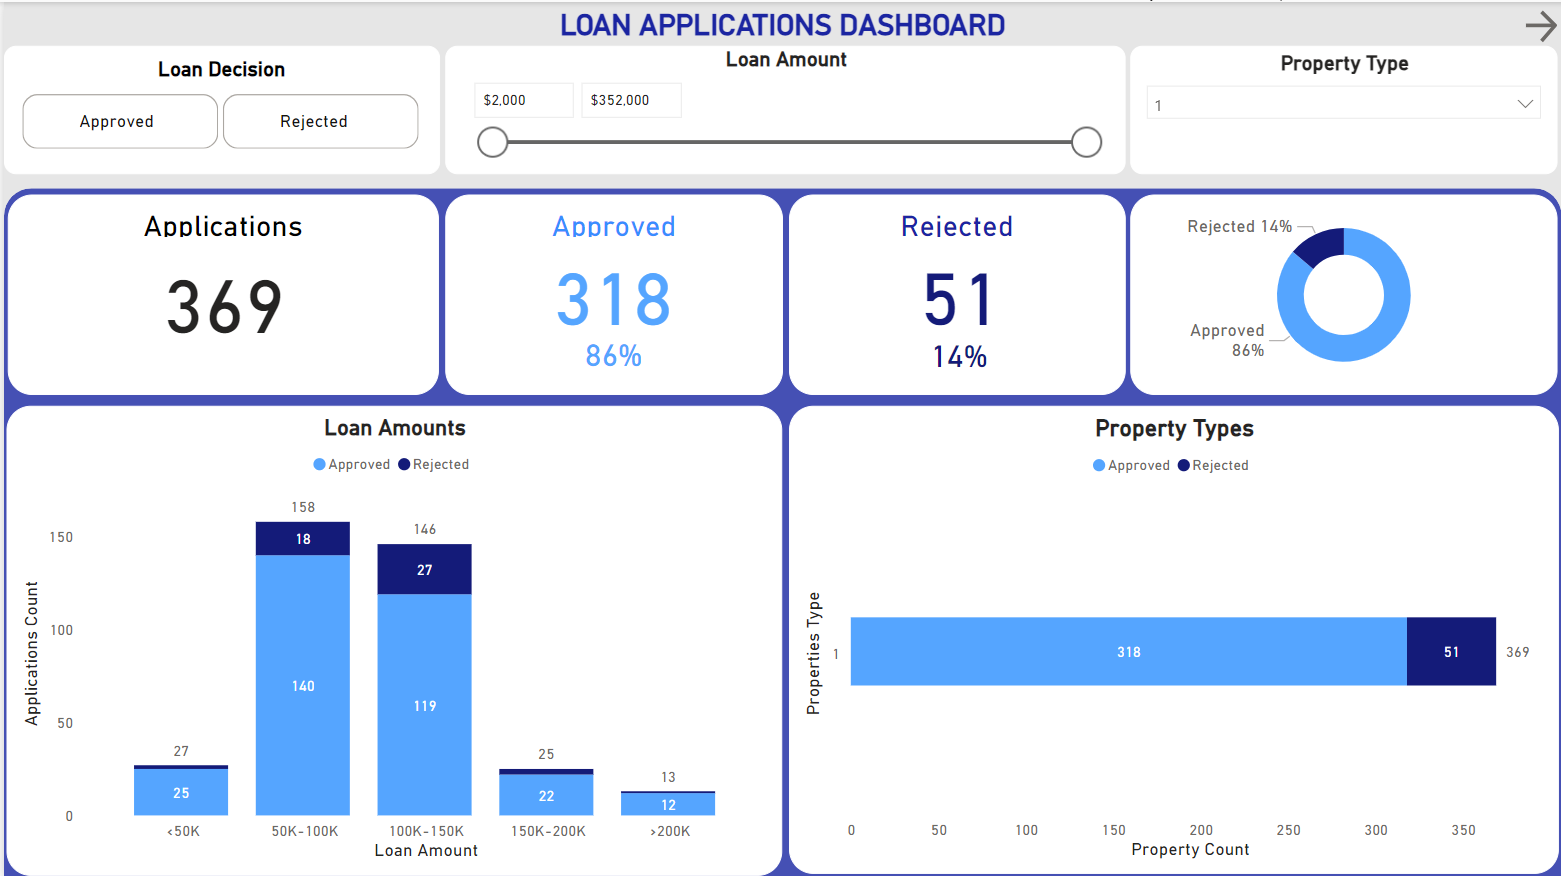

Layout of this report page (visuals, bound fields, positions):
{"tool":"powerbi","page":{"name":"Page 1","canvas":[1280,720],"ordinal":0},"visuals":[{"type":"shape","box":[0,153.5,1280.2,566.3],"z":0},{"type":"textbox","box":[3.5,158.1,354.7,165.1],"z":1000},{"type":"textbox","box":[362.8,158.1,277.9,165.1],"z":2000},{"type":"textbox","box":[645.4,158.1,276.7,165.1],"z":3000},{"type":"textbox","box":[0,36,358.1,105.8],"z":4000},{"type":"card","title":"Applications:","fields":{"Values":["CountNonNull(loan_applications_BI.loan_decision)"]},"box":[38.4,193,286,97.7],"z":5000},{"type":"donutChart","fields":{"Y":["CountNonNull(loan_applications_BI.decision_label)"],"Category":["loan_applications_BI.decision_label"]},"box":[925.6,158.1,351.2,165.1],"z":6000},{"type":"barChart","title":"Property Types","fields":{"Category":["loan_applications_BI.property_type"],"Y":["CountNonNull(loan_applications_BI.property_type)"],"Series":["loan_applications_BI.decision_label"]},"box":[645.4,331.4,632.6,384.9],"z":7000},{"type":"columnChart","title":"Loan Amounts","fields":{"Category":["loan_range_order.loan_range"],"Y":["CountNonNull(loan_applications_BI.loan_range)"],"Series":["loan_applications_BI.decision_label"]},"box":[2.3,331.4,637.2,386],"z":8000},{"type":"advancedSlicerVisual","title":"Loan Decision:","fields":{"Values":["loan_applications_BI.decision_label"]},"box":[3.5,64,350,69.8],"z":9000},{"type":"card","fields":{"Values":["loan_applications_BI.decision_approve"]},"box":[417.4,193,167.4,86],"z":10000},{"type":"card","fields":{"Values":["loan_applications_BI.decision_reject"]},"box":[691.9,193,187.2,86],"z":11000},{"type":"slicer","title":"Loan Amount","fields":{"Values":["loan_applications_BI.loan_amount_thousand"]},"box":[362.8,36,559.3,105.8],"z":12000},{"type":"card","fields":{"Values":["loan_applications_BI.approve_percentage"]},"box":[418.6,266.3,166.3,46.5],"z":13000},{"type":"card","fields":{"Values":["loan_applications_BI.reject_percentage"]},"box":[727.9,266.3,115.1,47.7],"z":14000},{"type":"slicer","title":"Property Type","fields":{"Values":["loan_applications_BI.property_type"]},"box":[925.6,36,351.2,105.8],"z":15000},{"type":"textbox","box":[0,0,1280.2,46.5],"z":16000},{"type":"actionButton","box":[1244.9,0,35.4,40.1],"z":17000}]}

Visuals, with their boxes in screenshot pixels (x1, y1, x2, y2), scaled from the page's 1280x720 canvas onto the 1561x876 screenshot:
shape: region(0, 187, 1560, 875)
textbox: region(4, 192, 437, 393)
textbox: region(442, 192, 781, 393)
textbox: region(787, 192, 1125, 393)
textbox: region(0, 44, 437, 173)
"Applications:" card: region(47, 235, 396, 354)
donutChart - CountNonNull(loan_applications_BI.decision_label) x loan_applications_BI.decision_label: region(1129, 192, 1557, 393)
"Property Types" barChart: region(787, 403, 1559, 871)
"Loan Amounts" columnChart: region(3, 403, 780, 873)
"Loan Decision:" advancedSlicerVisual: region(4, 78, 431, 163)
card - loan_applications_BI.decision_approve: region(509, 235, 713, 339)
card - loan_applications_BI.decision_reject: region(844, 235, 1072, 339)
"Loan Amount" slicer: region(442, 44, 1125, 173)
card - loan_applications_BI.approve_percentage: region(510, 324, 713, 381)
card - loan_applications_BI.reject_percentage: region(888, 324, 1028, 382)
"Property Type" slicer: region(1129, 44, 1557, 173)
textbox: region(0, 0, 1560, 57)
actionButton: region(1518, 0, 1560, 49)
